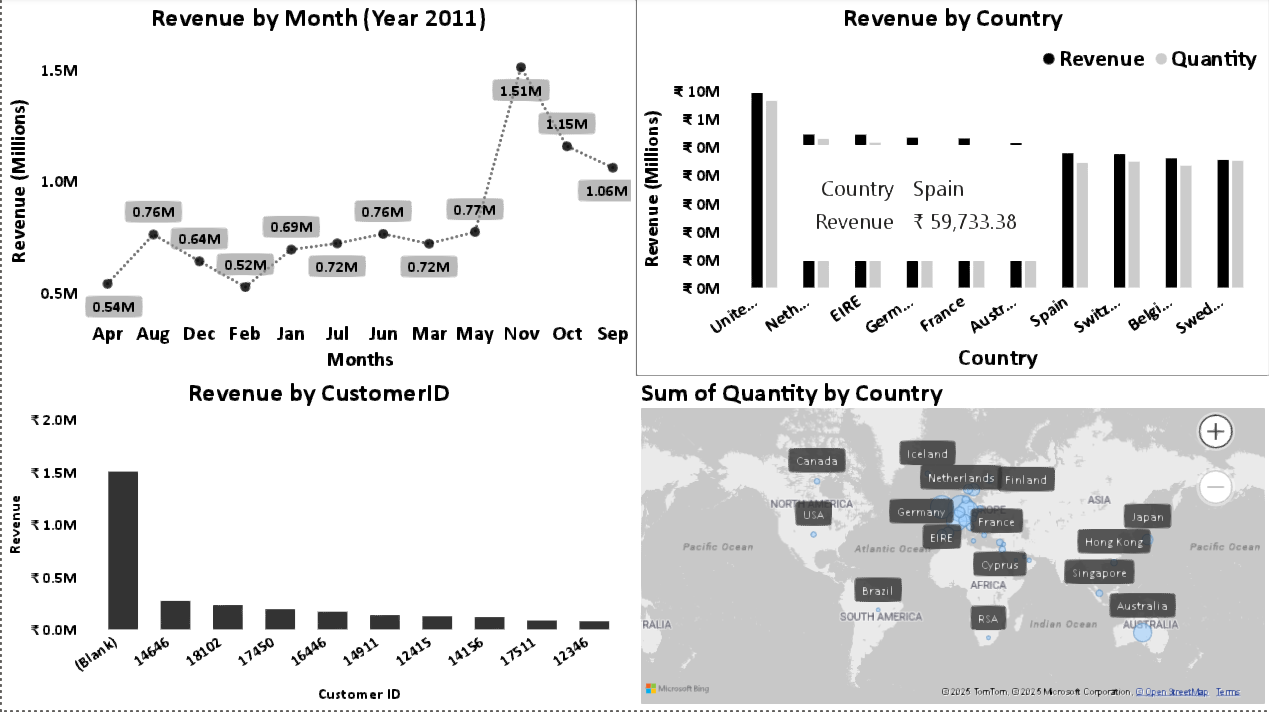

The page's visual inventory and layout, read from the dashboard file:
{"tool":"powerbi","page":{"name":"Dashboard_Tata_Data_Visualisation","canvas":[1280,720],"ordinal":0},"visuals":[{"type":"lineChart","title":"Revenue by Month (Year 2011) ","fields":{"Category":["Online Retail.MonthName"],"Y":["Sum(Online Retail.Revenue)"]},"box":[0,0,640,384],"z":0},{"type":"clusteredColumnChart","title":"Revenue by Country","fields":{"Category":["Online Retail.Country"],"Y":["Sum(Online Retail.Revenue)","Sum(Online Retail.Quantity)"]},"box":[640,0,640,384],"z":1},{"type":"columnChart","fields":{"Category":["Online Retail.CustomerID"],"Y":["Sum(Online Retail.Revenue)"]},"box":[0,384,640,336],"z":2},{"type":"map","fields":{"Category":["Online Retail.Country"],"Size":["Sum(Online Retail.Quantity)"]},"box":[640,384,640,336],"z":3}]}

Visuals, with their boxes in screenshot pixels (x1, y1, x2, y2), scaled from the page's 1280x720 canvas onto the 1269x712 screenshot:
"Revenue by Month (Year 2011) " lineChart: box=[0, 0, 634, 380]
"Revenue by Country" clusteredColumnChart: box=[634, 0, 1268, 380]
columnChart - Online Retail.CustomerID x Sum(Online Retail.Revenue): box=[0, 380, 634, 711]
map - Online Retail.Country x Sum(Online Retail.Quantity): box=[634, 380, 1268, 711]
